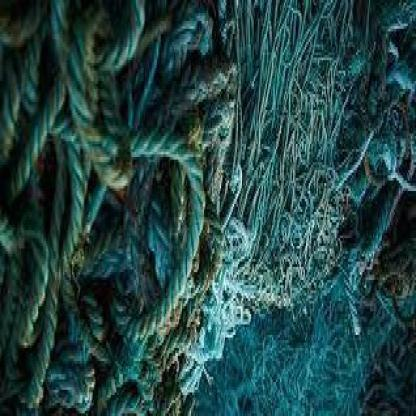net: (1, 2, 373, 414)
